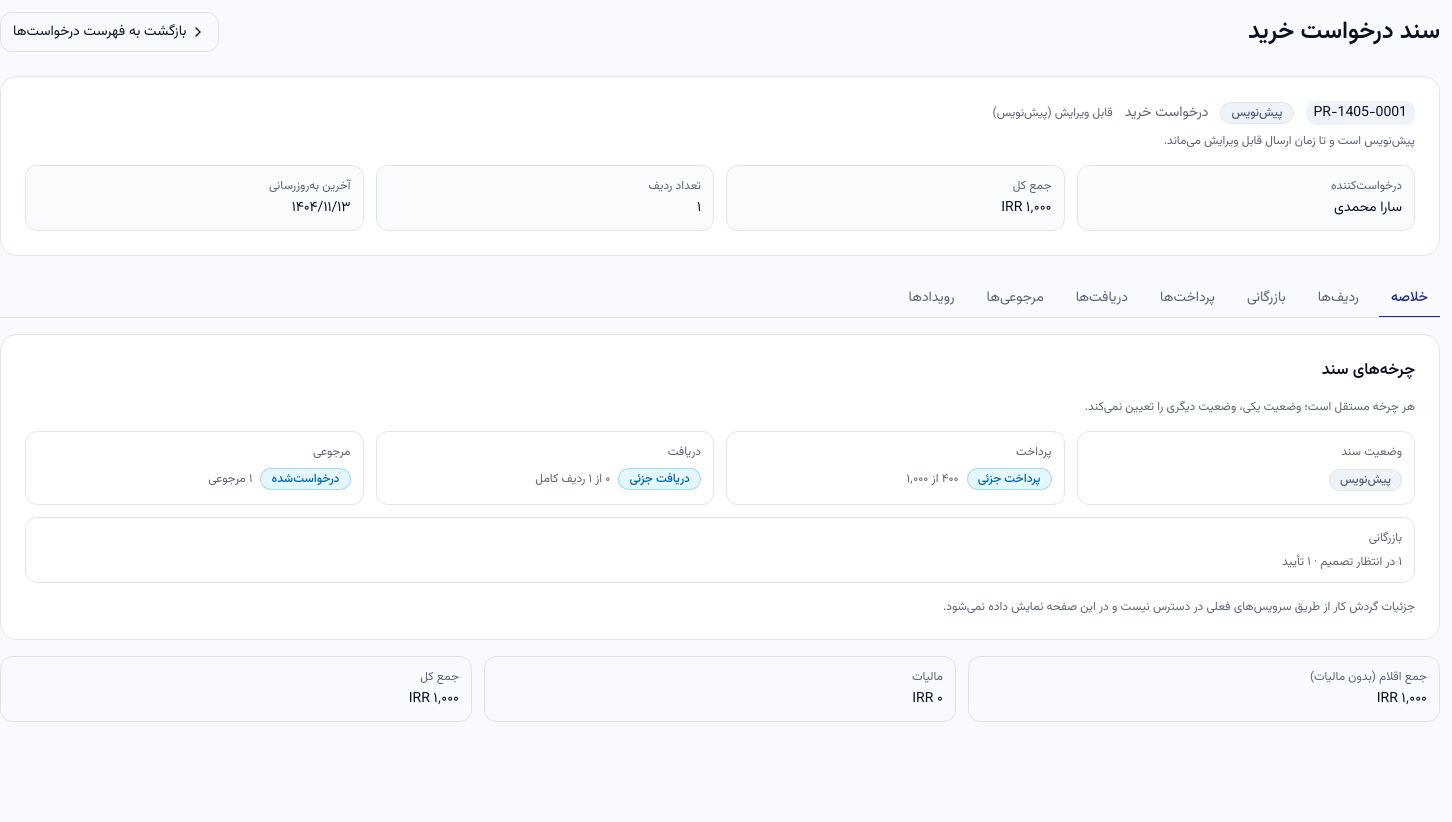
CommercePurchaseDetailView — commercial decision integration › shows NO decision entry for a reader without commerce.approve
Check: the element with test id "commerce-detail-identity" is shown, box top-left (0, 76), bottom-right (1440, 256)
Click the tab with test id "commerce-detail-tab-commercial".
click(1266, 299)  # box top-left (1235, 280), bottom-right (1298, 318)
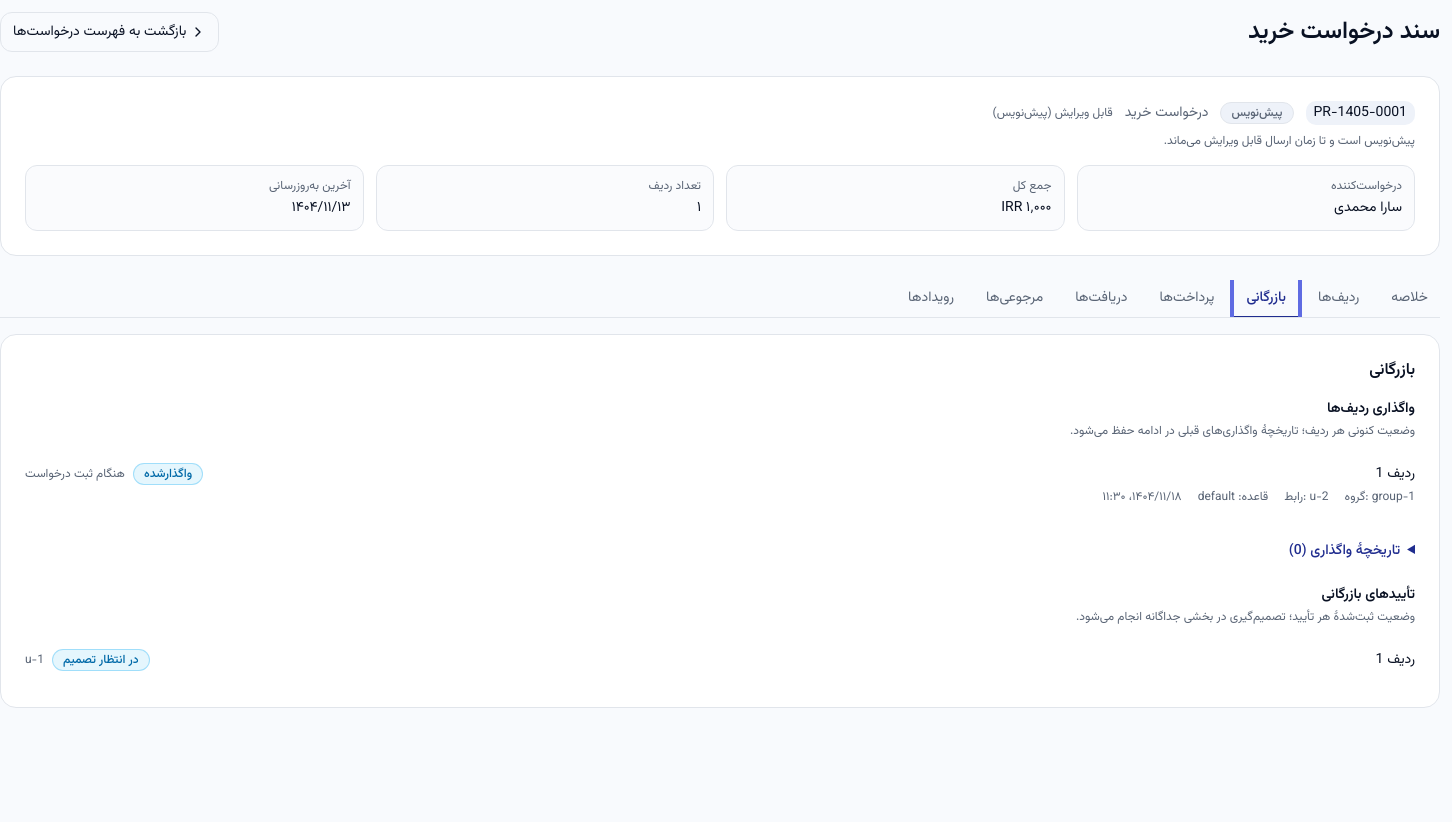
Check: the element with test id "commerce-detail-commercial" is shown, box top-left (0, 334), bottom-right (1440, 708)
